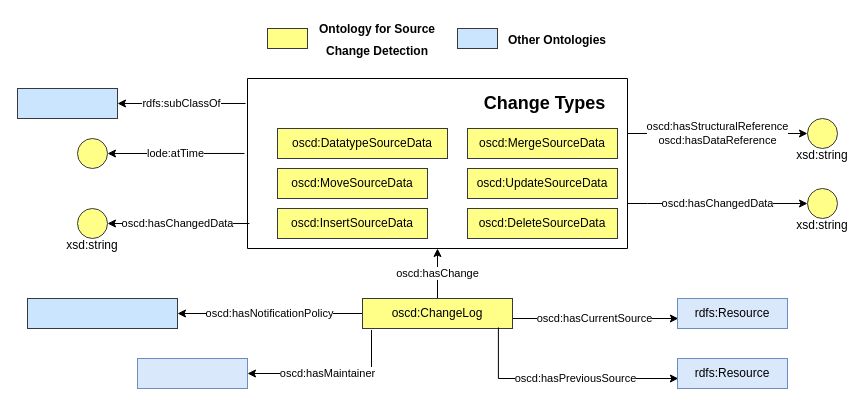
The diagram is 865 pixels wide and 406 high, and some of its shapes have lost their labels. Each missing label, with the box of its shape:
dul:Agent: (136, 358, 248, 388)
lode:Event: (16, 88, 118, 118)
rei-policy:Policy: (26, 298, 178, 328)
xsd:dateTime: (76, 138, 108, 168)
